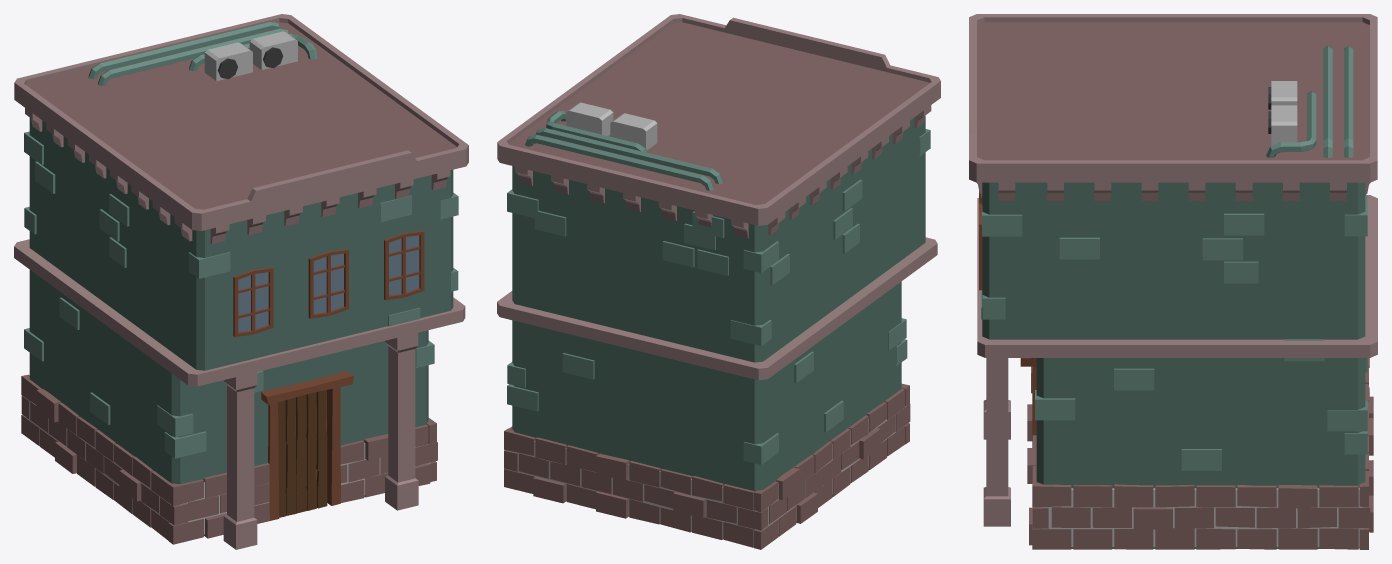
The model's file is 2Story_Columns_Mat.glb.
3 views of the same model, side by side, from view 1: azimuth 30°, elevation 25°; view 2: azimuth 150°, elevation 25°; view 3: azimuth 270°, elevation 25° (orthographic). The views are drawn at different scales.
Visible parts, largest first — view 1: 2Story_Columns_Mat; view 2: 2Story_Columns_Mat; view 3: 2Story_Columns_Mat.
Part boxes in pixels (x1,y1,x2,y2): 2Story_Columns_Mat: (14,14,468,549); 2Story_Columns_Mat: (497,14,940,549); 2Story_Columns_Mat: (969,14,1377,549).
Bounding box in the file's own units: 2.16 × 2.77 × 2.49.
